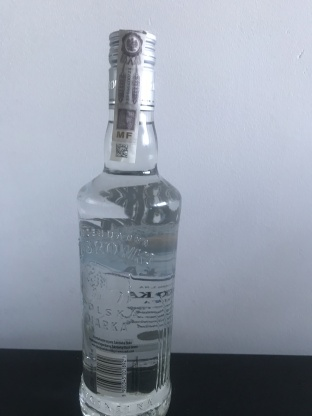nakretka: (106, 26, 157, 114)
